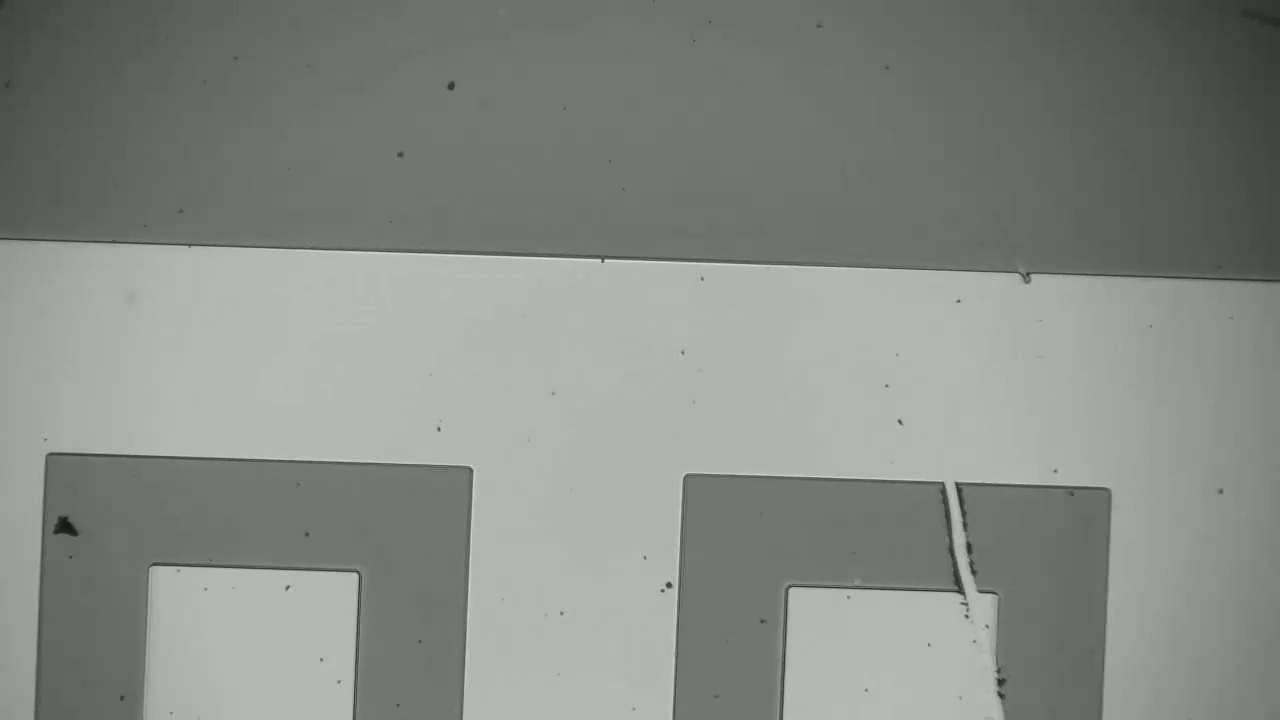Short_circuit: (892, 469, 1009, 614)
